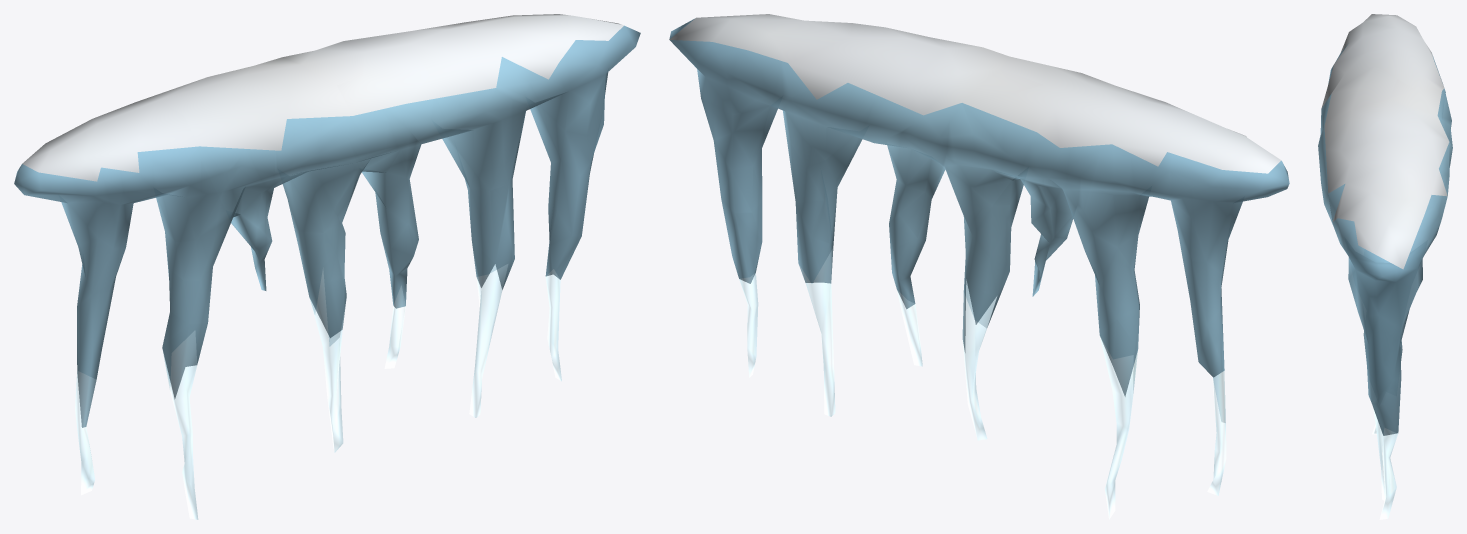
The model's file is frost_icicle_cluster_lod2.glb.
3 renders of one model, left to right at view 1: azimuth 30°, elevation 25°; view 2: azimuth 150°, elevation 25°; view 3: azimuth 270°, elevation 25°, orthographic. The views are drawn at different scales.
Visible parts, largest first — view 1: frost_icicle_cluster.001; view 2: frost_icicle_cluster.001; view 3: frost_icicle_cluster.001.
Boxes of the visible parts, bbox=[...] form: frost_icicle_cluster.001: bbox=[14, 14, 640, 519]; frost_icicle_cluster.001: bbox=[669, 14, 1289, 519]; frost_icicle_cluster.001: bbox=[1318, 14, 1452, 519].
Bounding box in the file's own units: 12.16 × 7.98 × 2.69.
